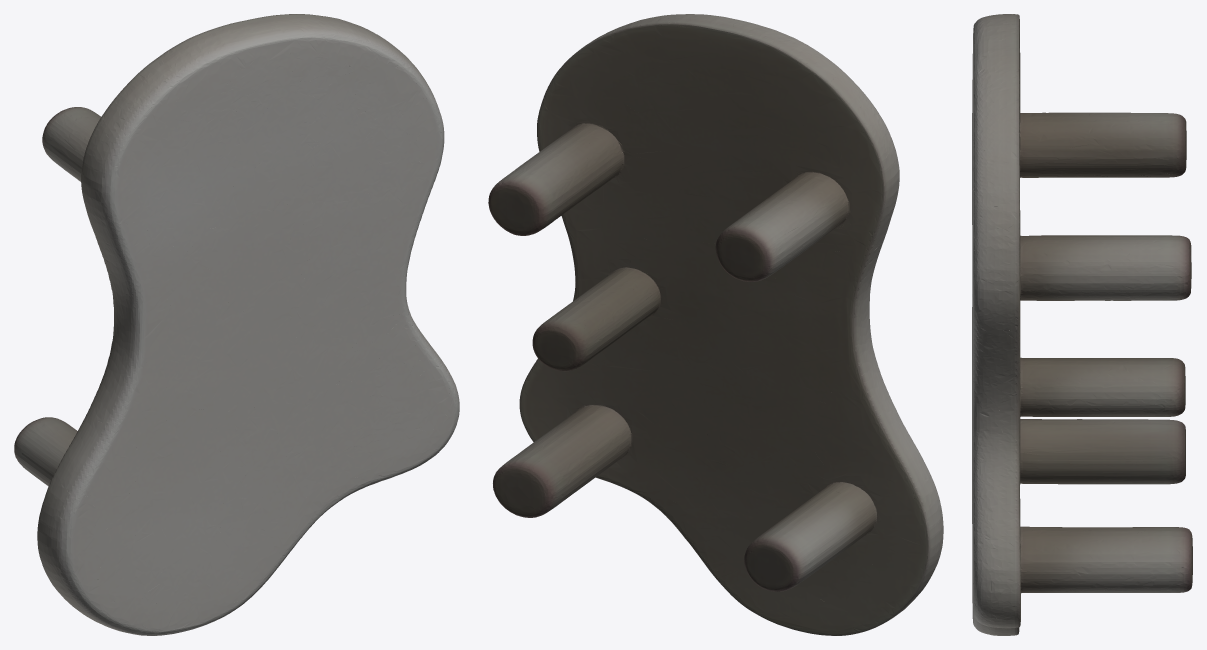
The picture shows the model from 3 angles, left to right: view 1: azimuth 30°, elevation 25°; view 2: azimuth 150°, elevation 25°; view 3: azimuth 270°, elevation 25°; orthographic projection. The views are drawn at different scales.
Size of the model in its own units: 0.8392 by 1.14 by 0.3701.
Materials: 1 (1 with a texture image).
